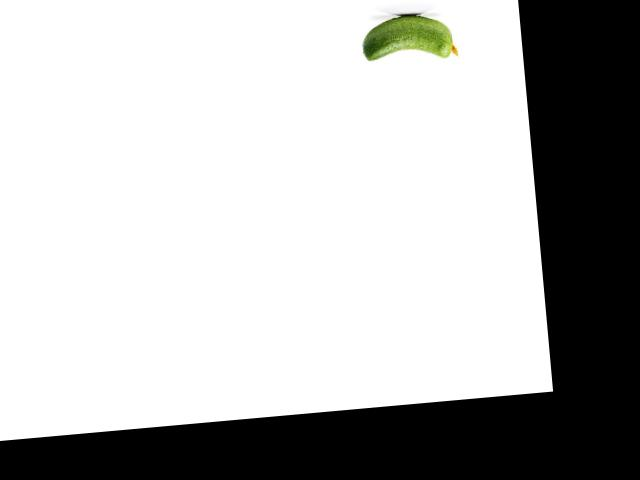cucumber: (359, 10, 458, 65)
